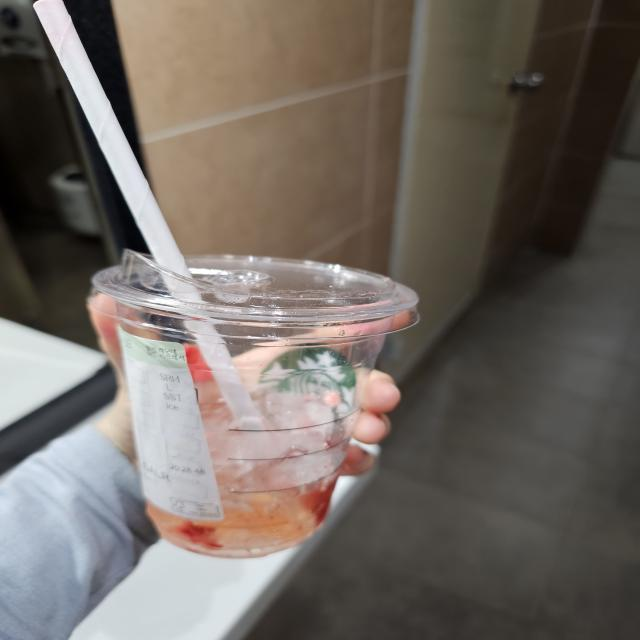cup: (80, 230, 424, 562)
